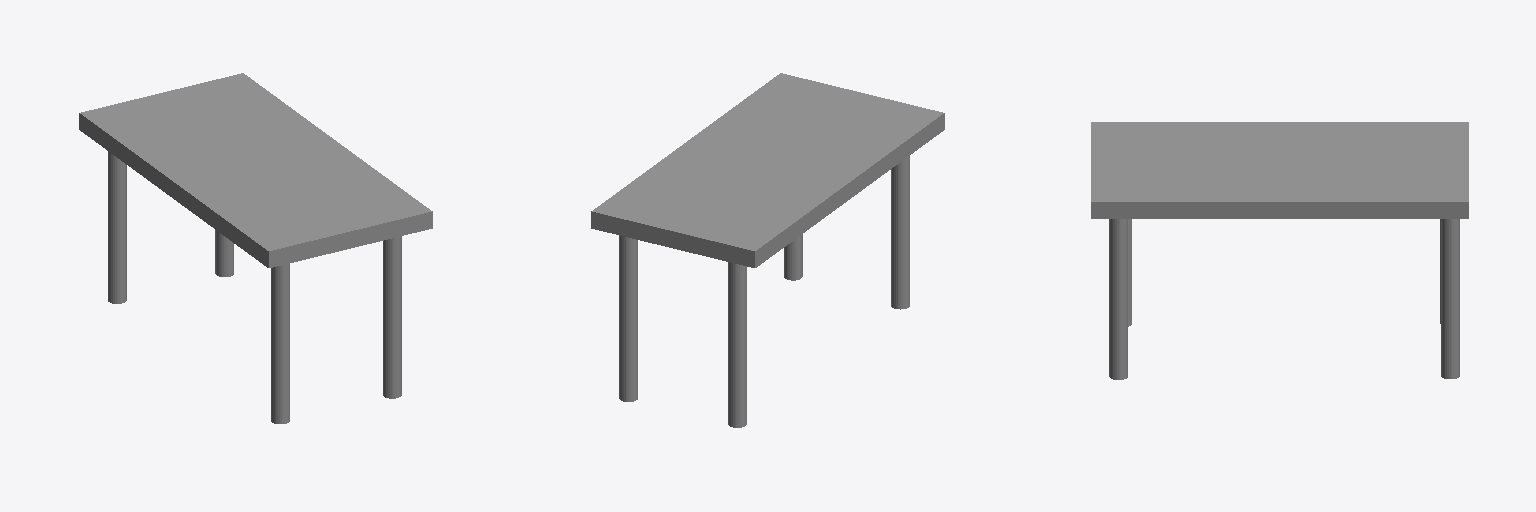
Rendered from table2.obj.
The picture shows the model from 3 angles: view 1: azimuth 30°, elevation 25°; view 2: azimuth 150°, elevation 25°; view 3: azimuth 270°, elevation 25°; orthographic projection.
Parts seen in each view (by area): view 1: Cube; view 2: Cube; view 3: Cube.
Part boxes in pixels (x1,y1,x2,y2): Cube: (79, 73, 432, 423); Cube: (591, 73, 944, 427); Cube: (1091, 122, 1468, 379).
Size of the model in its own units: 2 by 2.19 by 4.